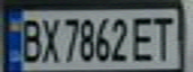2: (109, 14, 133, 63)
6: (93, 14, 112, 63)
7: (60, 13, 81, 64)
8: (78, 15, 96, 63)
B: (18, 15, 42, 64)
E: (130, 12, 160, 63)
T: (151, 12, 178, 62)
X: (39, 13, 60, 64)
